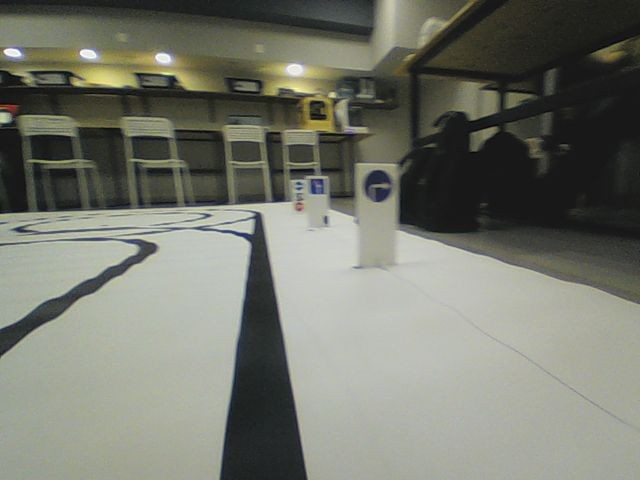Right: (362, 167, 392, 203)
